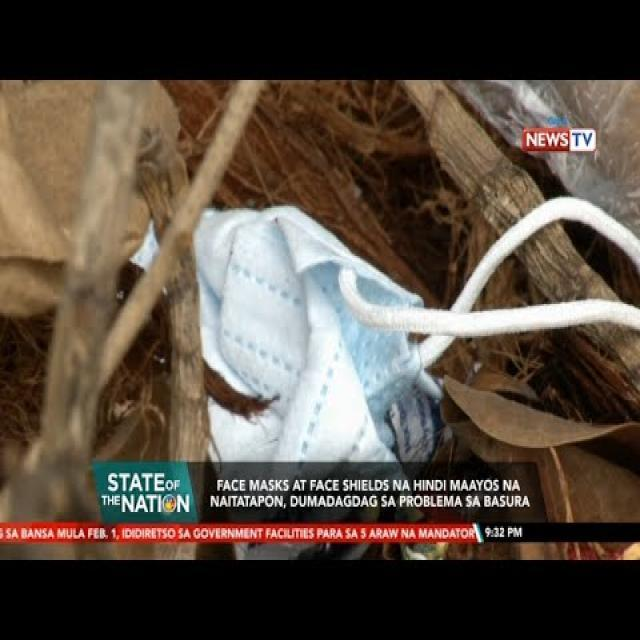face mask: (125, 180, 639, 518)
